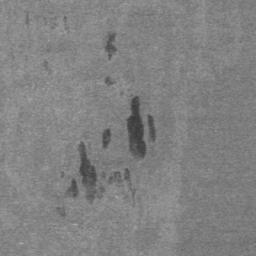Iron scale compression: (126, 96, 148, 161), (80, 144, 98, 203), (105, 168, 132, 190), (106, 31, 117, 58), (147, 112, 157, 141), (66, 180, 78, 197), (102, 129, 111, 149), (104, 77, 117, 86), (57, 208, 65, 219)
